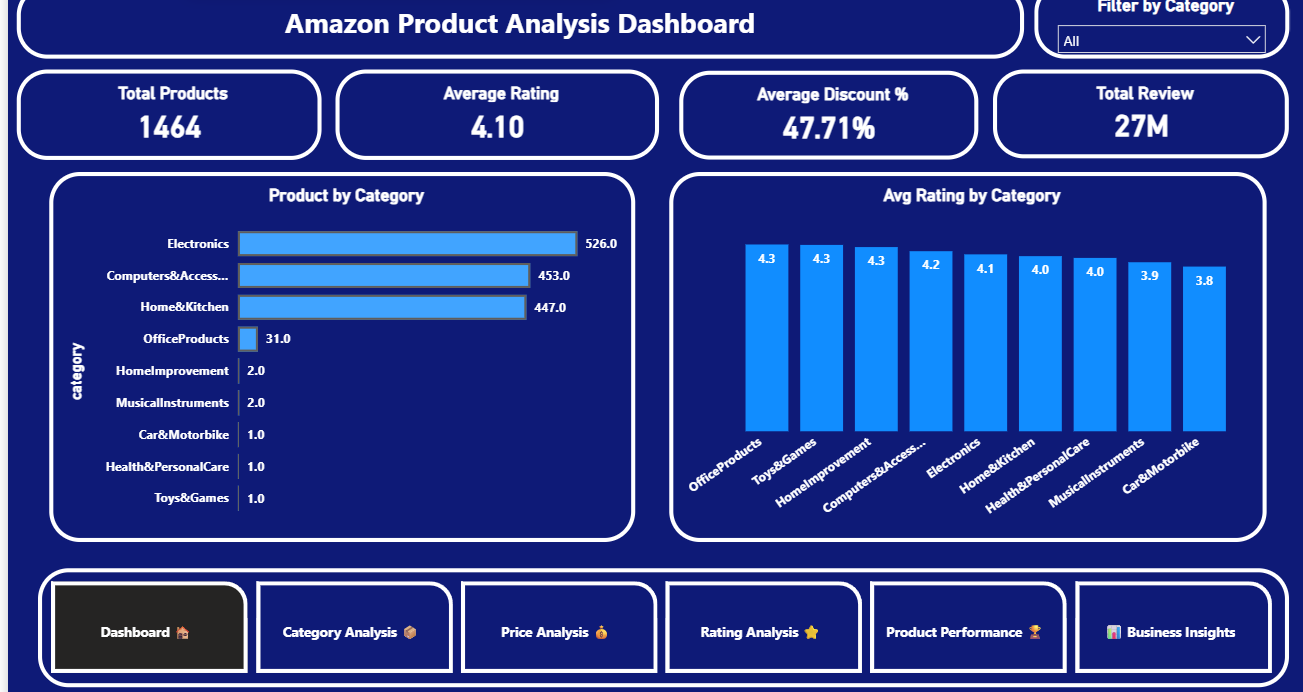

The dashboard page shown, as its layout file describes it:
{"tool":"powerbi","page":{"name":"Dashboard 🏚️","canvas":[1280,720],"ordinal":0},"visuals":[{"type":"textbox","title":"Amazon Products Analysis Dashboard","box":[8.1,12.1,988.4,72.6],"z":0},{"type":"card","title":"Total Products","fields":{"Values":["CountNonNull(amazon_db amazon_products.product_id)"]},"box":[8.1,95.6,298.9,88.9],"z":1000},{"type":"card","title":"Average Discount %","fields":{"Values":["Avg(amazon_db amazon_products.discount_percentage)"]},"box":[658.3,96.9,293.5,87.5],"z":2000},{"type":"card","title":"Total Review","fields":{"Values":["Sum(amazon_db amazon_products.rating_count)"]},"box":[966.6,95.6,290.8,87.5],"z":3000},{"type":"card","title":"Average Rating","fields":{"Values":["Avg(amazon_db amazon_products.rating)"]},"box":[321.8,95.6,317.7,88.9],"z":4000},{"type":"slicer","title":"Filter by Category","fields":{"Values":["amazon_db amazon_products.category"]},"box":[1007.3,9.4,250.1,75.3],"z":5000},{"type":"clusteredBarChart","title":"Product by Category","fields":{"Category":["amazon_db amazon_products.category"],"Y":["CountNonNull(amazon_db amazon_products.product_id)"]},"box":[40.3,196.3,575.6,363.1],"z":6000},{"type":"clusteredColumnChart","title":"Avg Rating by Category","fields":{"Category":["amazon_db amazon_products.category"],"Y":["Avg(amazon_db amazon_products.rating)"]},"box":[649.6,196.3,586.3,363.1],"z":7000},{"type":"pageNavigator","box":[29.6,585,1227.8,117],"z":7001}]}

Visuals, with their boxes in screenshot pixels (x1, y1, x2, y2):
"Amazon Products Analysis Dashboard" textbox: crop(12, 0, 1019, 56)
"Total Products" card: crop(12, 67, 316, 157)
"Average Discount %" card: crop(674, 68, 973, 157)
"Total Review" card: crop(988, 67, 1285, 156)
"Average Rating" card: crop(331, 67, 655, 157)
"Filter by Category" slicer: crop(1030, 0, 1285, 56)
"Product by Category" clusteredBarChart: crop(44, 170, 631, 540)
"Avg Rating by Category" clusteredColumnChart: crop(665, 170, 1263, 540)
pageNavigator: crop(34, 566, 1285, 685)
